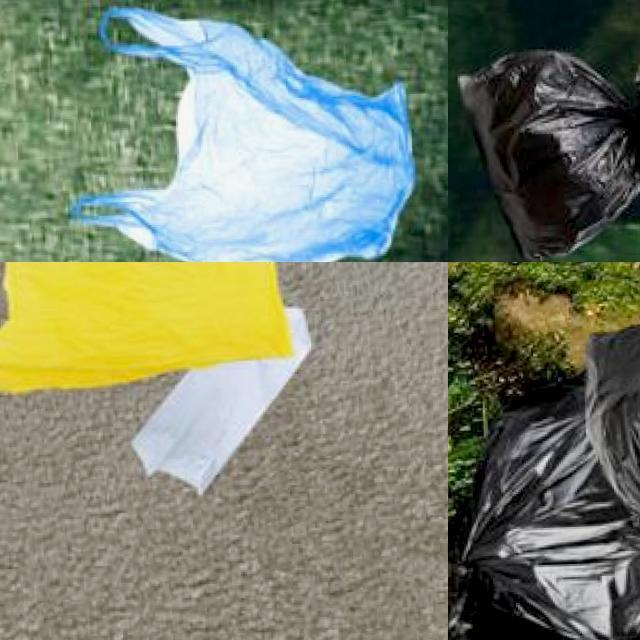waste: (63, 0, 426, 262), (448, 389, 640, 640), (448, 45, 640, 260), (0, 262, 296, 395), (134, 344, 310, 494), (585, 288, 640, 524)
